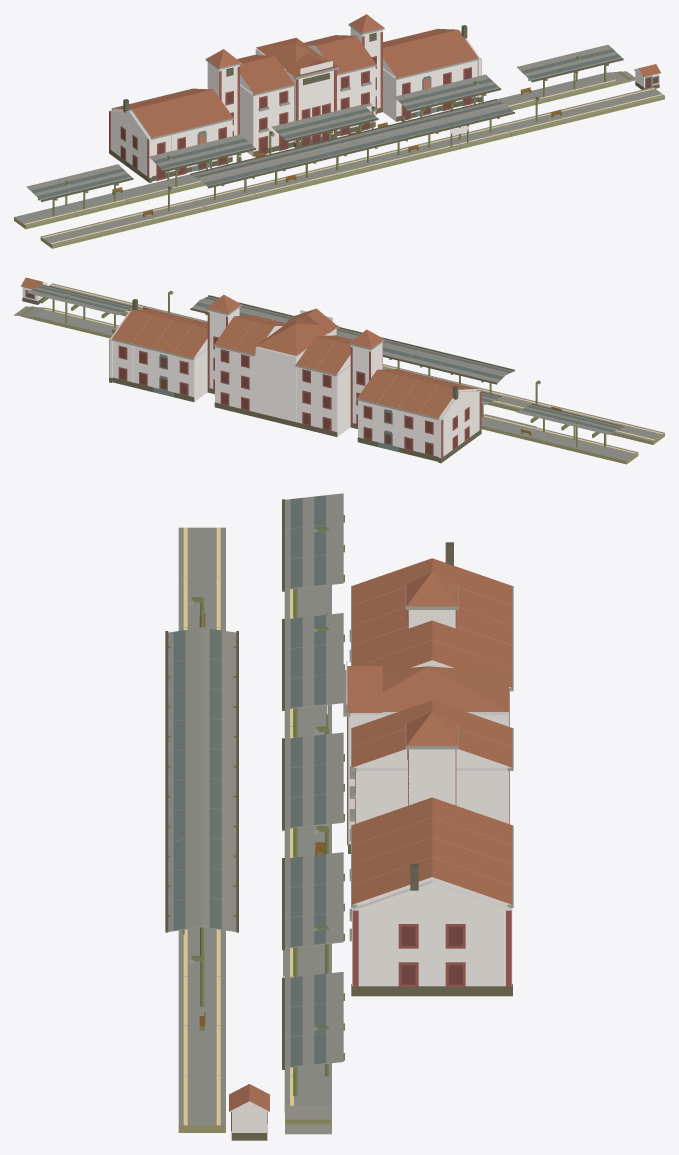
File: SM_EstacionCastellon_v0_LOD1.fbx
The picture shows the model from 3 angles, top to bottom: view 1: azimuth 30°, elevation 25°; view 2: azimuth 150°, elevation 25°; view 3: azimuth 270°, elevation 25°; orthographic projection. The views are drawn at different scales.
Parts seen in each view (by area): view 1: SM_bloques.estacion_castellon_v0_LOD1; view 2: SM_bloques.estacion_castellon_v0_LOD1; view 3: SM_bloques.estacion_castellon_v0_LOD1.
Part boxes in pixels (<box>): SM_bloques.estacion_castellon_v0_LOD1: <box>14,14,664,248</box>; SM_bloques.estacion_castellon_v0_LOD1: <box>14,277,664,464</box>; SM_bloques.estacion_castellon_v0_LOD1: <box>165,493,513,1140</box>.
Size of the model in its own units: 122 by 18.15 by 29.52.
